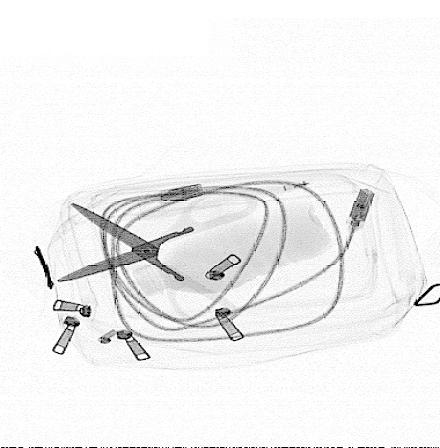Scissors: (51, 179, 264, 329)
